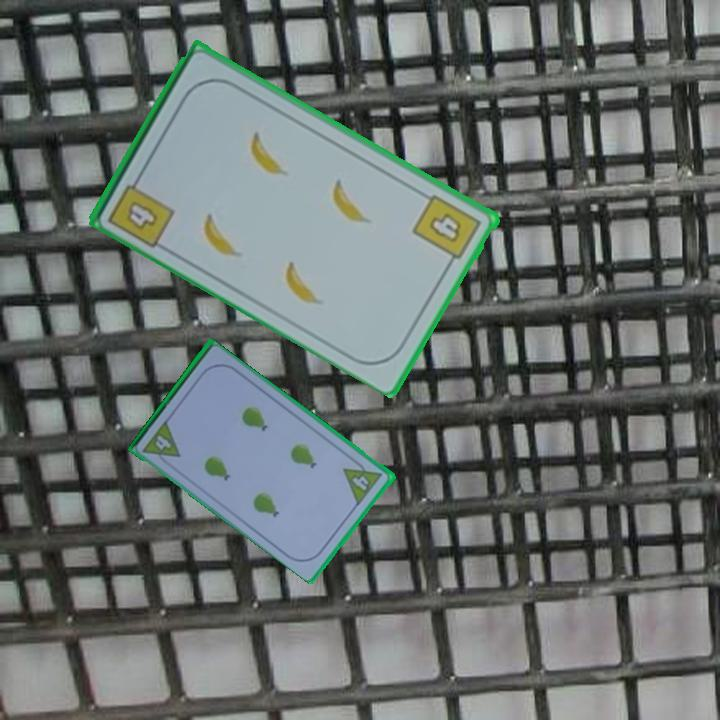4b: (409, 190, 486, 270), (104, 168, 178, 251)
4p: (340, 454, 386, 507), (139, 417, 184, 471)
